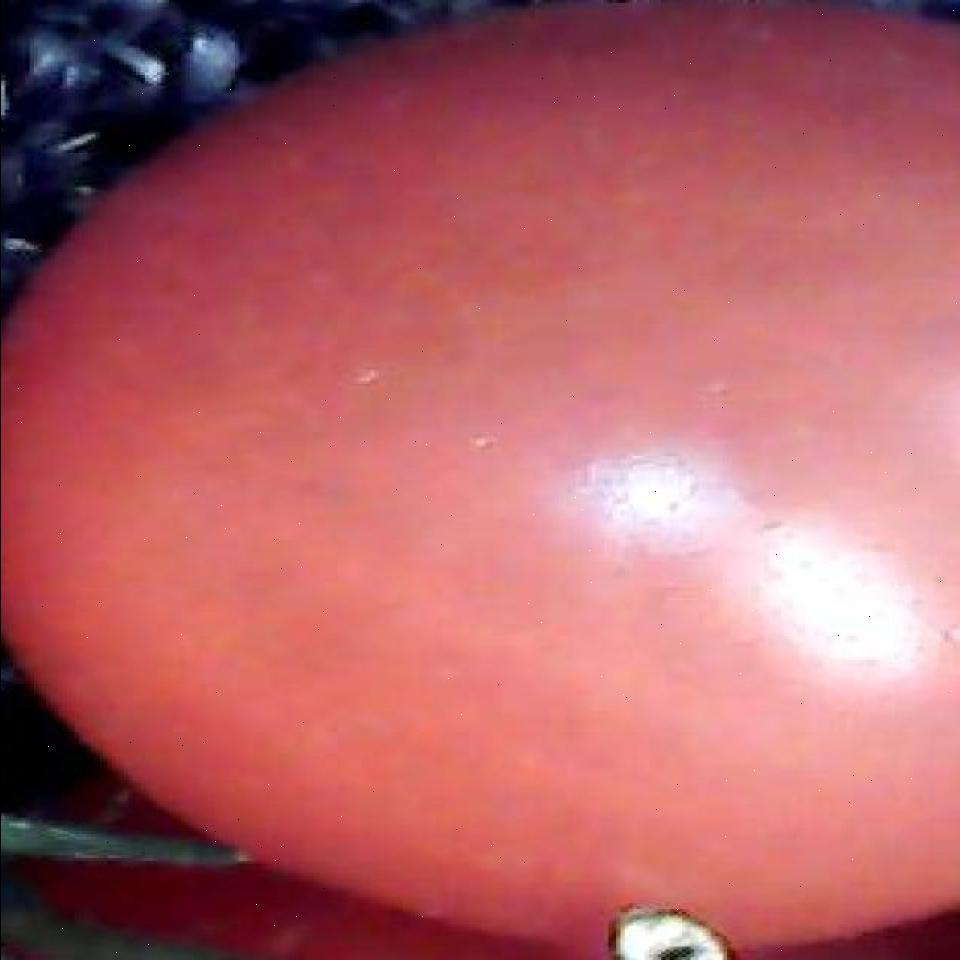Healthy: (0, 11, 960, 960)
